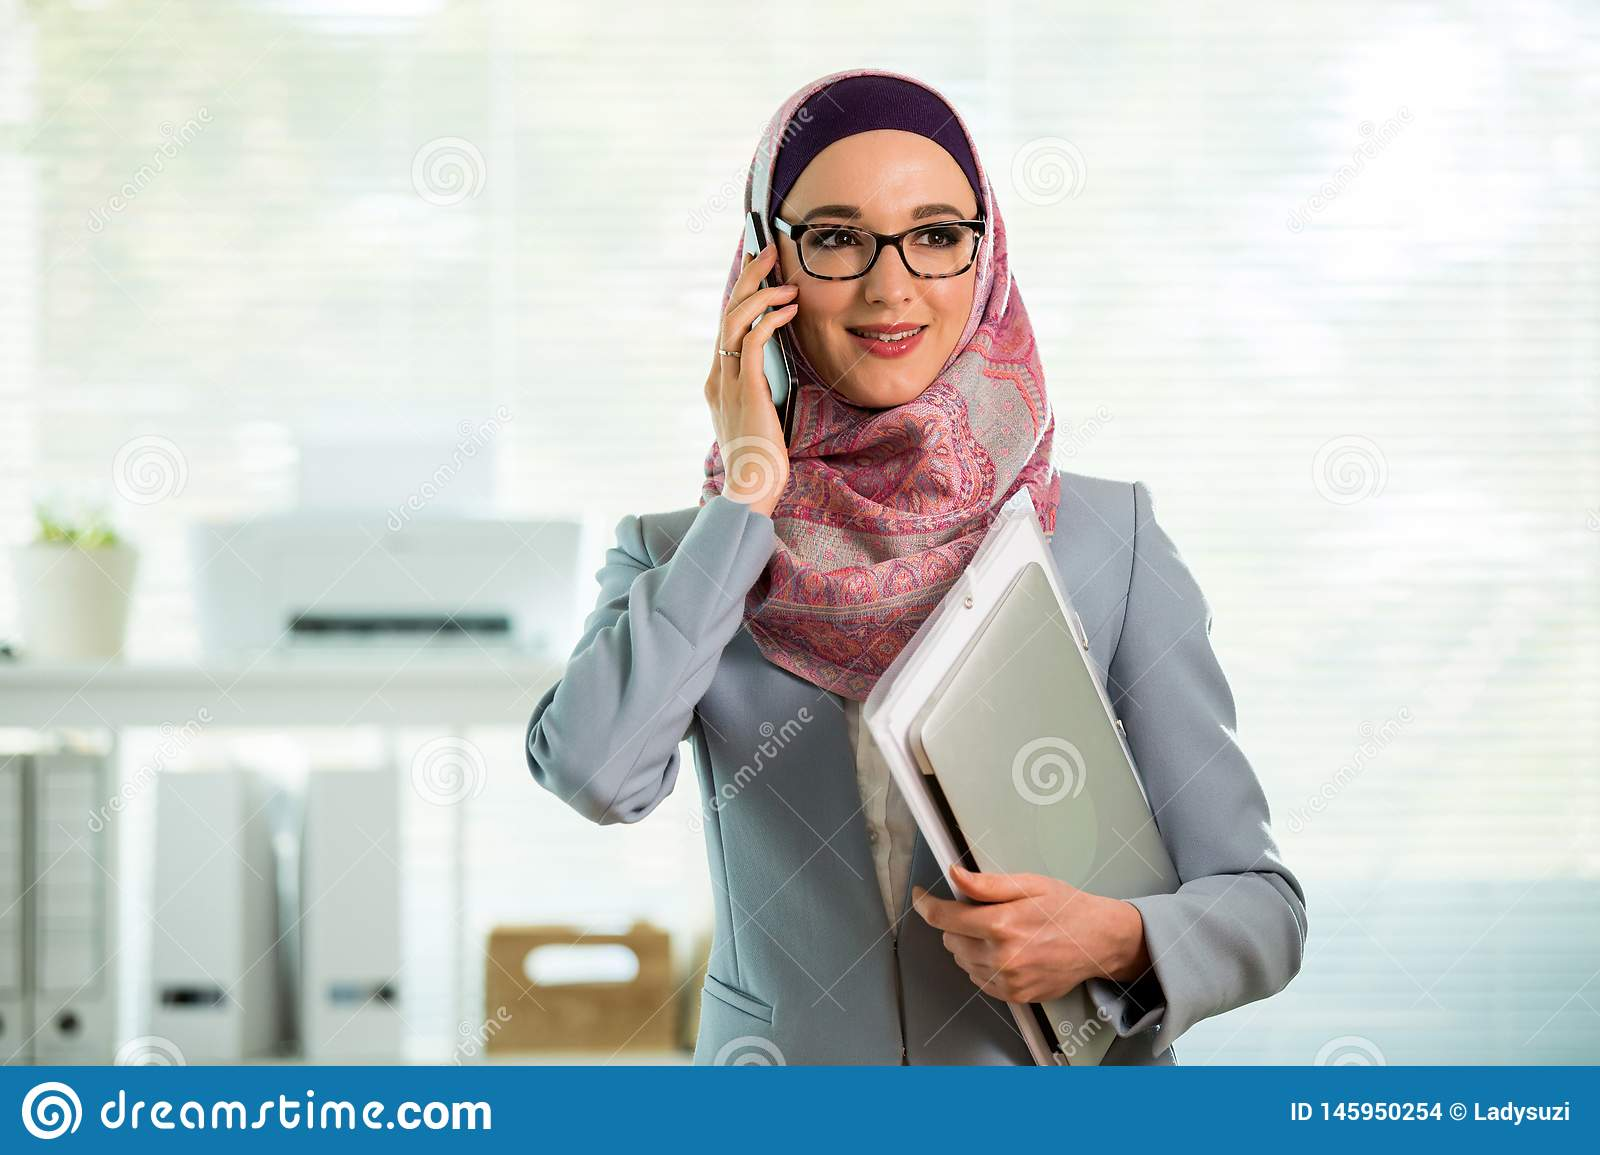phone: (720, 204, 804, 468)
talk: (697, 189, 974, 507)
